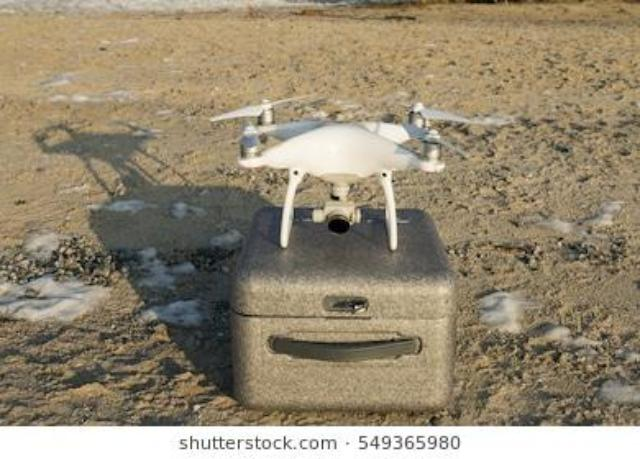drone: (201, 78, 507, 274)
